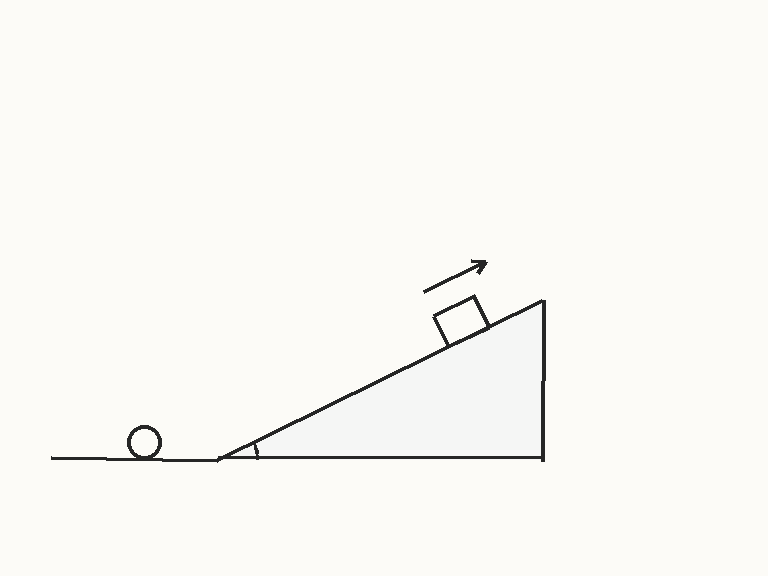ball: (125, 423, 163, 461)
block: (431, 294, 491, 349)
ramp: (215, 298, 545, 461)
